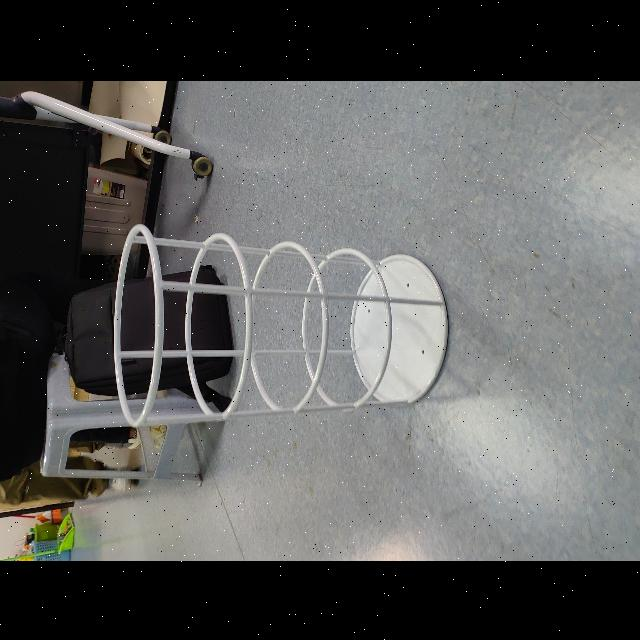S: (109, 218, 453, 430)
